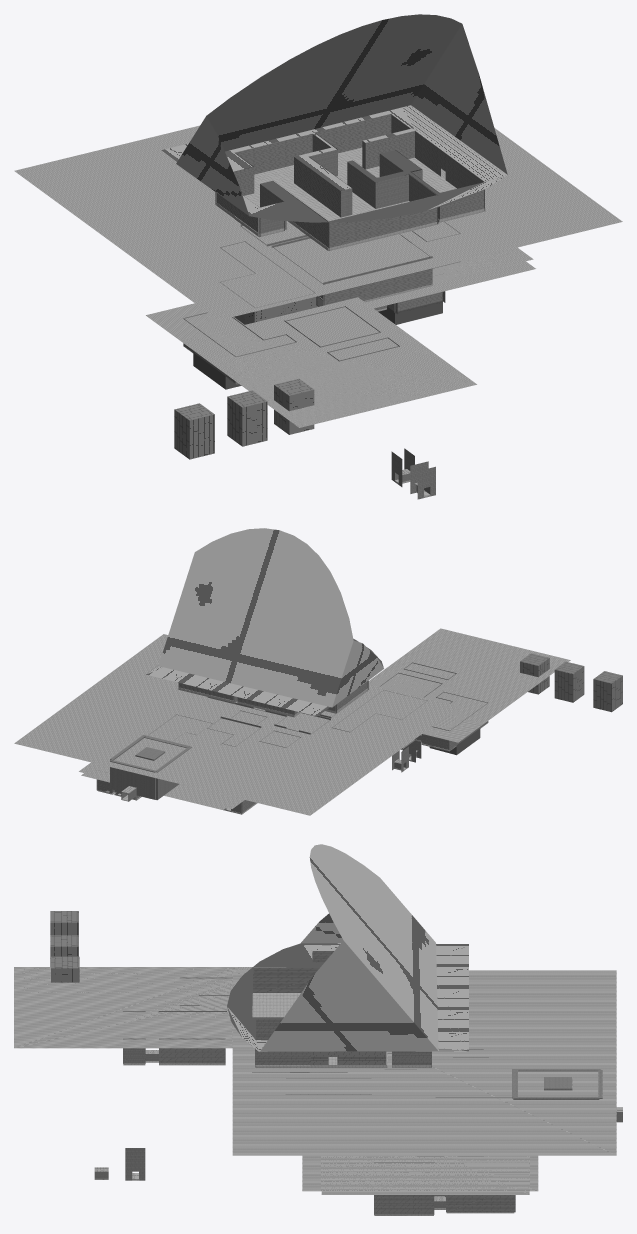
Rendered from StoneTower.glb.
The picture shows the model from 3 angles, top to bottom: view 1: azimuth 30°, elevation 25°; view 2: azimuth 150°, elevation 25°; view 3: azimuth 270°, elevation 25°; orthographic projection. The views are drawn at different scales.
Visible parts, largest first — view 1: Ceiling -col.195, Cone, Ceiling -col.309, Ceiling -col.308, Ceiling -col.052, Wall -col.041, Ceiling -col.311, Wall -col.119, Wall -col.132, Wall -col.231, Wall -col.049, Wall -col.030 (+11 smaller); view 2: Ceiling -col.195, Cone, Ceiling -col.308, Ceiling -col.052, Ceiling -col.309, Wall -col.119, Wall -col.007, Ceiling -col.311, Wall -col.132, Wall -col.008, Wall -col.005, Ceiling -col.196 (+1 smaller); view 3: Ceiling -col.195, Cone, Ceiling -col.308, Ceiling -col.196, Ceiling -col.052, Ceiling -col.311, Wall -col.052, Wall -col.142, Wall -col.147, Wall -col.294, Floor -col.025, Wall -col.024 (+6 smaller).
Boxes of the visible parts, x1,y1,x2,y2 form: Ceiling -col.195: (14, 114, 622, 320); Cone: (176, 14, 507, 215); Ceiling -col.309: (195, 299, 469, 424); Ceiling -col.308: (146, 297, 476, 427); Ceiling -col.052: (161, 105, 507, 222); Wall -col.041: (329, 195, 437, 247); Ceiling -col.311: (365, 250, 535, 308); Wall -col.119: (227, 390, 267, 446); Wall -col.132: (174, 403, 214, 459); Wall -col.231: (323, 256, 432, 305); Wall -col.049: (234, 133, 312, 174); Wall -col.030: (314, 113, 391, 153); Ceiling -col.195: (14, 634, 459, 815); Cone: (158, 528, 383, 707); Ceiling -col.308: (368, 628, 570, 742); Ceiling -col.052: (146, 639, 383, 716); Ceiling -col.309: (372, 633, 565, 734); Wall -col.119: (554, 661, 584, 702); Wall -col.007: (110, 760, 156, 799); Ceiling -col.311: (81, 773, 238, 809); Wall -col.132: (593, 671, 622, 712); Wall -col.008: (520, 653, 549, 694); Wall -col.005: (156, 746, 191, 799); Ceiling -col.196: (79, 762, 244, 808); Ceiling -col.195: (232, 970, 616, 1155); Cone: (260, 844, 438, 1051); Ceiling -col.308: (14, 967, 285, 1048); Ceiling -col.196: (321, 1155, 529, 1194); Ceiling -col.052: (227, 943, 468, 1051); Ceiling -col.311: (302, 1155, 538, 1191); Wall -col.052: (252, 968, 319, 992); Wall -col.142: (446, 1195, 515, 1212); Wall -col.147: (374, 1195, 434, 1214); Wall -col.294: (159, 1038, 225, 1063); Floor -col.025: (252, 993, 300, 1017); Wall -col.024: (311, 1051, 386, 1064).
Bounding box in the file's own units: 270 × 183 × 286.
3 materials, 3 textured.
